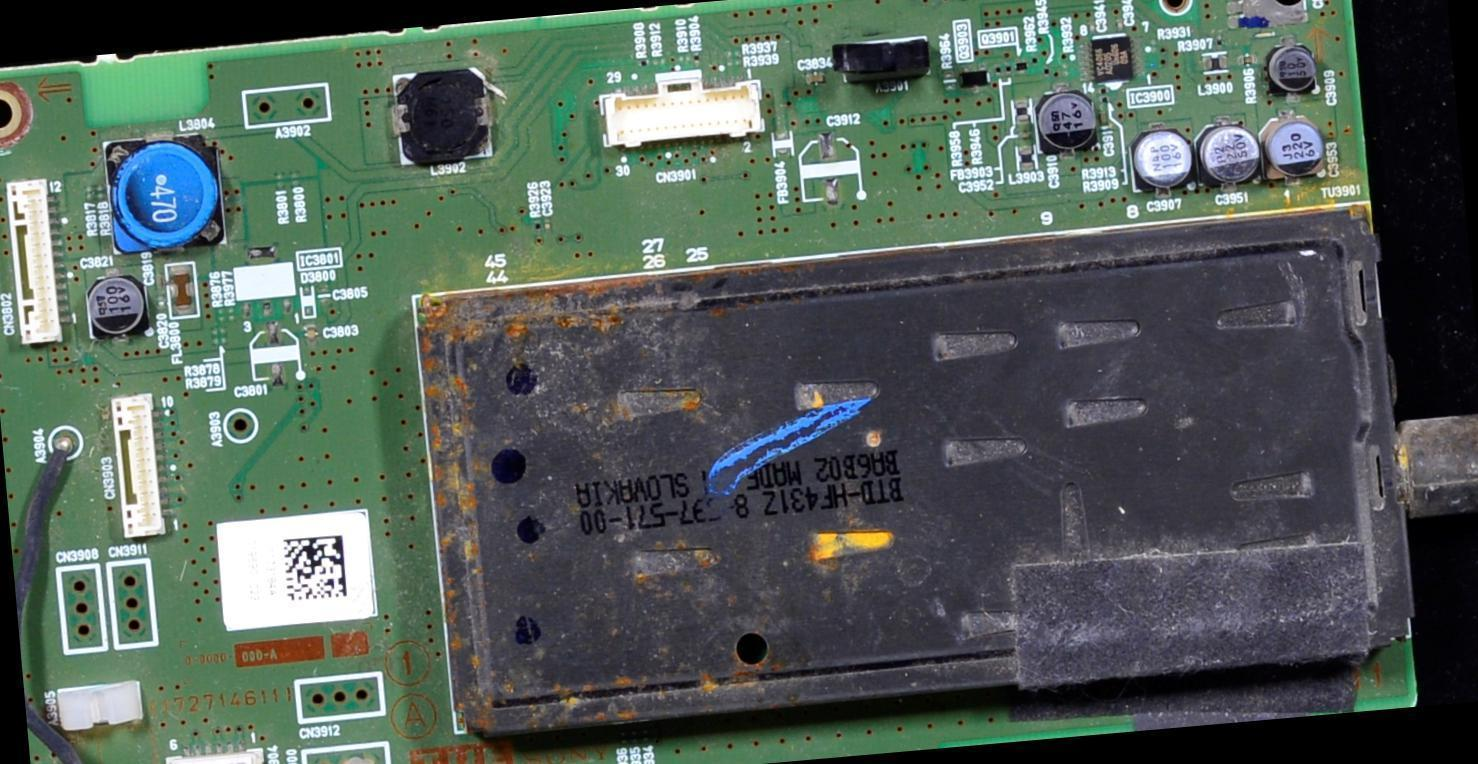Capacitor: (1031, 86, 1106, 154), (1195, 122, 1266, 191), (1130, 128, 1201, 195), (83, 273, 149, 336), (1266, 42, 1330, 99), (1269, 114, 1328, 174), (814, 128, 840, 159), (801, 67, 833, 91), (1015, 127, 1038, 144), (544, 214, 559, 234), (102, 263, 122, 278), (154, 295, 168, 314)
Connector: (110, 392, 182, 541), (4, 177, 64, 348)
IC: (1079, 24, 1140, 91)
Resistor: (1145, 33, 1162, 61), (939, 70, 959, 92), (271, 168, 289, 191), (303, 319, 320, 343), (1211, 30, 1227, 54), (528, 213, 546, 234), (85, 181, 100, 203), (206, 323, 231, 336), (290, 169, 305, 190), (636, 51, 653, 69), (1240, 50, 1256, 68), (1057, 61, 1072, 80), (614, 729, 628, 748), (651, 53, 669, 67), (727, 58, 748, 70), (1039, 61, 1053, 78), (209, 335, 230, 346), (725, 48, 744, 60), (625, 730, 639, 746), (217, 305, 229, 323), (689, 50, 704, 64), (226, 305, 237, 324), (640, 733, 656, 746), (1101, 94, 1118, 106), (993, 59, 1004, 77), (96, 181, 107, 199), (1004, 61, 1015, 76), (677, 56, 693, 65), (1095, 85, 1110, 94)
Transistor: (1012, 59, 1030, 71)
